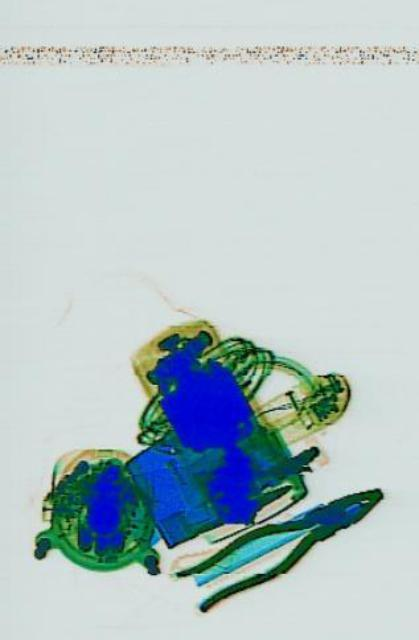Pliers: (173, 462, 388, 622)
